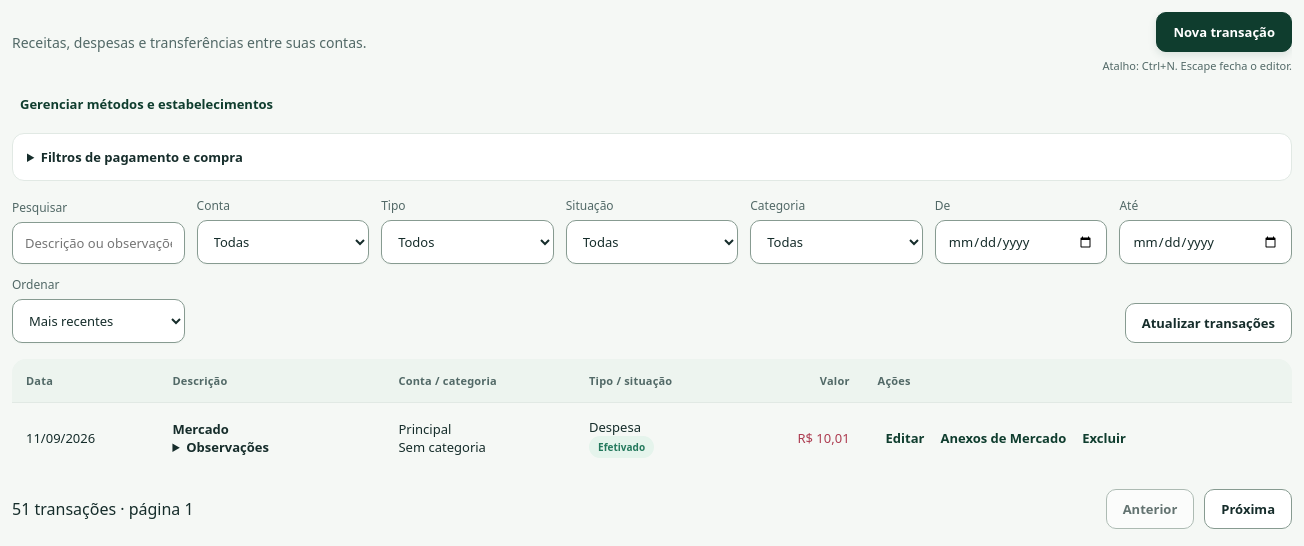
Test: requests only the next backend page
This screenshot has width=1304, height=546.
expect the column heading "Mercado" is shown: met, box top-left (172, 420), bottom-right (229, 438)
Click the button "Próxima".
click(1248, 509)  # box top-left (1204, 489), bottom-right (1292, 529)
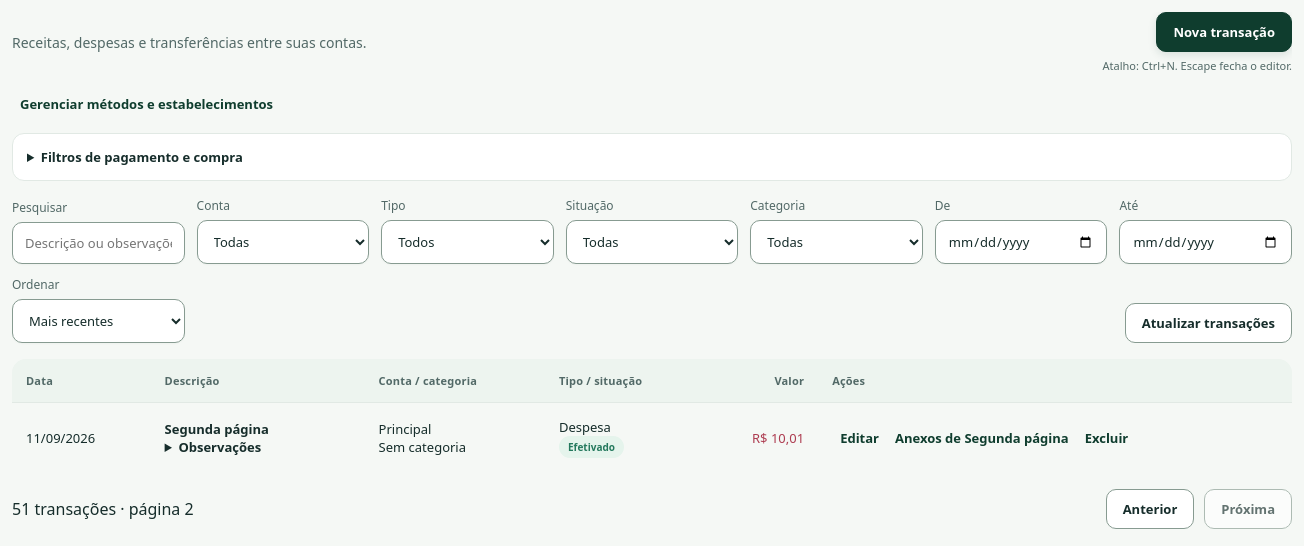
expect the column heading "Segunda página" is shown: met, box top-left (165, 420), bottom-right (269, 438)
